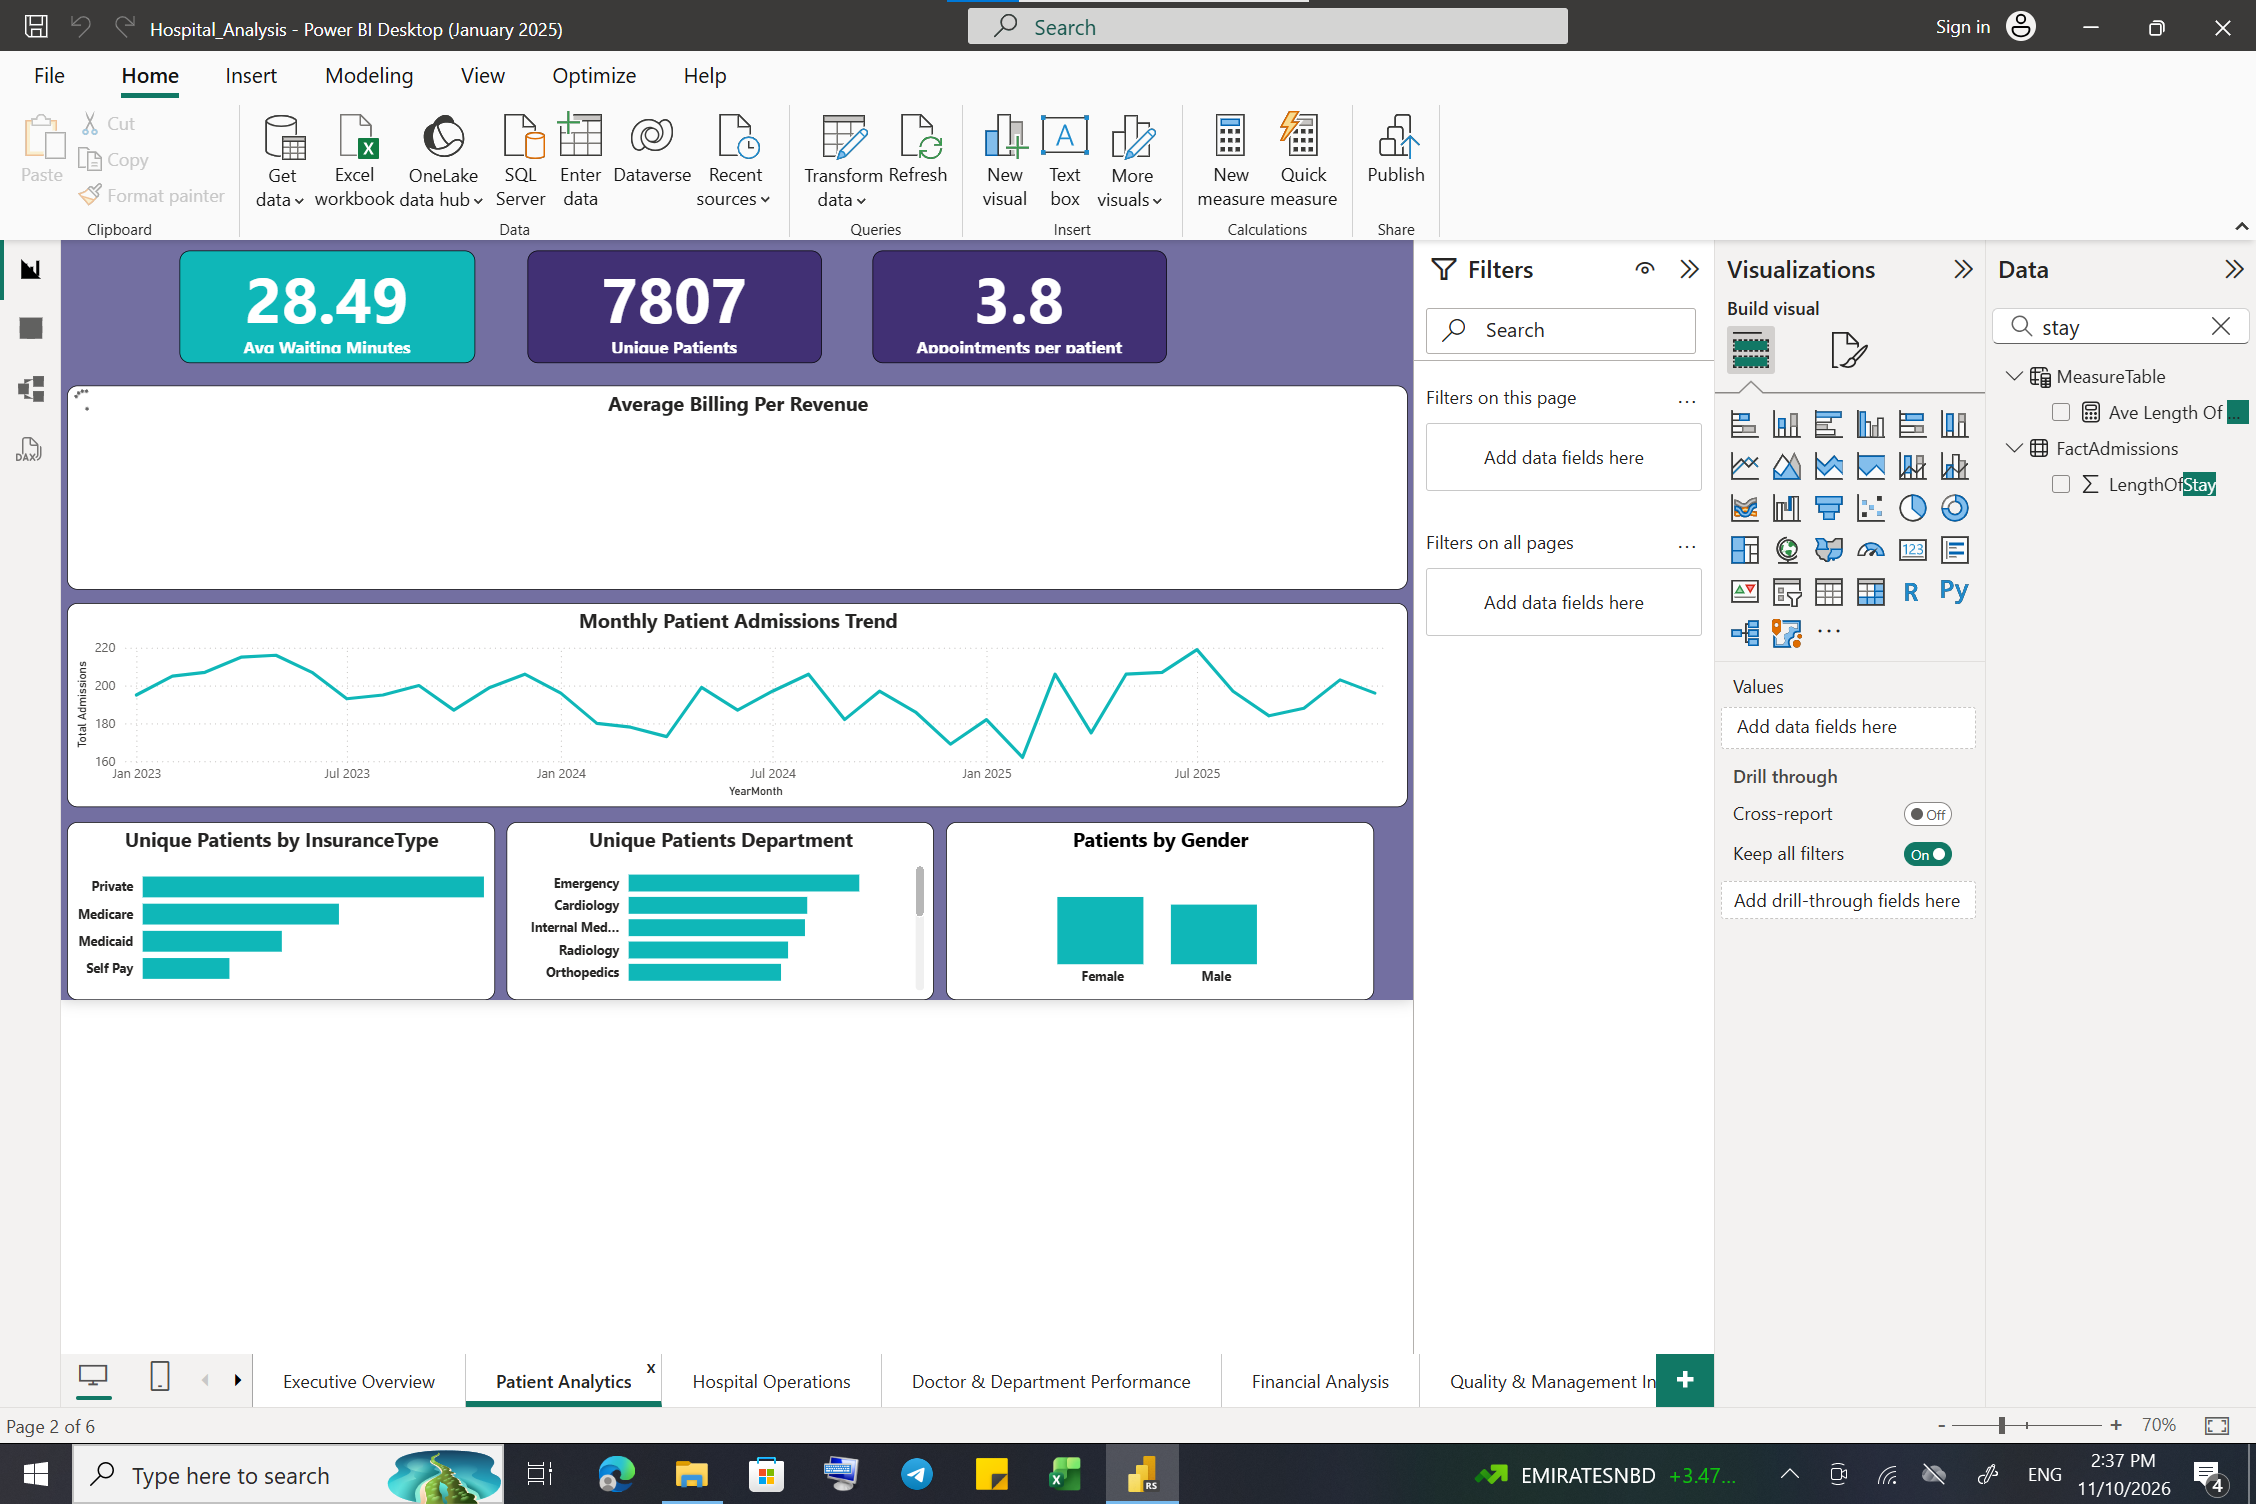

The dashboard page shown, as its layout file describes it:
{"tool":"powerbi","page":{"name":"Patient Analytics","canvas":[1280,720],"ordinal":1},"visuals":[{"type":"card","fields":{"Values":["MeasureTable.Avg Waiting Minutes"]},"box":[112.2,9.9,279.8,106.5],"z":0},{"type":"lineChart","title":"Monthly Patient Admissions Trend","fields":{"Category":["DimDate.YearMonth"],"Y":["MeasureTable.Total Admissions"]},"box":[5.7,343.7,1269.6,193.1],"z":1000},{"type":"columnChart","title":"Patients by Gender","fields":{"Category":["DimPatient.Gender"],"Y":["MeasureTable.Unique Patients"]},"box":[837.9,551,405,169],"z":2000},{"type":"barChart","fields":{"Category":["DimPatient.InsuranceType"],"Y":["MeasureTable.Unique Patients"]},"box":[5.7,551,405,169],"z":3000},{"type":"scatterChart","title":"Average Billing Per Revenue","fields":{"Category":["DimPatient.PatientID"],"Play":["DimPatient.PatientID"],"Series":["DimPatient.Gender"],"X":["MeasureTable.Patient Responsibility"]},"box":[5.7,137.8,1269.6,193.1],"z":4000},{"type":"clusteredBarChart","title":"Unique Patients Department","fields":{"Category":["DimDepartment.DepartmentName"],"Y":["MeasureTable.Unique Patients"]},"box":[421.8,551,404.7,169],"z":5000},{"type":"card","fields":{"Values":["MeasureTable.Appointments per patient"]},"box":[768.3,9.9,278.3,106.5],"z":6000},{"type":"card","fields":{"Values":["MeasureTable.Unique Patients"]},"box":[440.9,9.9,278.3,106.5],"z":7000}]}

Visuals, with their boxes on the page's 1280x720 design canvas (x1, y1, x2, y2). These are canvas units, not pixel positions in the 2256x1504 screenshot, which may show the page scaled, cropped or inside an application window:
card - MeasureTable.Avg Waiting Minutes: [x1=112, y1=10, x2=392, y2=116]
"Monthly Patient Admissions Trend" lineChart: [x1=6, y1=344, x2=1275, y2=537]
"Patients by Gender" columnChart: [x1=838, y1=551, x2=1243, y2=720]
barChart - DimPatient.InsuranceType x MeasureTable.Unique Patients: [x1=6, y1=551, x2=411, y2=720]
"Average Billing Per Revenue" scatterChart: [x1=6, y1=138, x2=1275, y2=331]
"Unique Patients Department" clusteredBarChart: [x1=422, y1=551, x2=826, y2=720]
card - MeasureTable.Appointments per patient: [x1=768, y1=10, x2=1047, y2=116]
card - MeasureTable.Unique Patients: [x1=441, y1=10, x2=719, y2=116]
